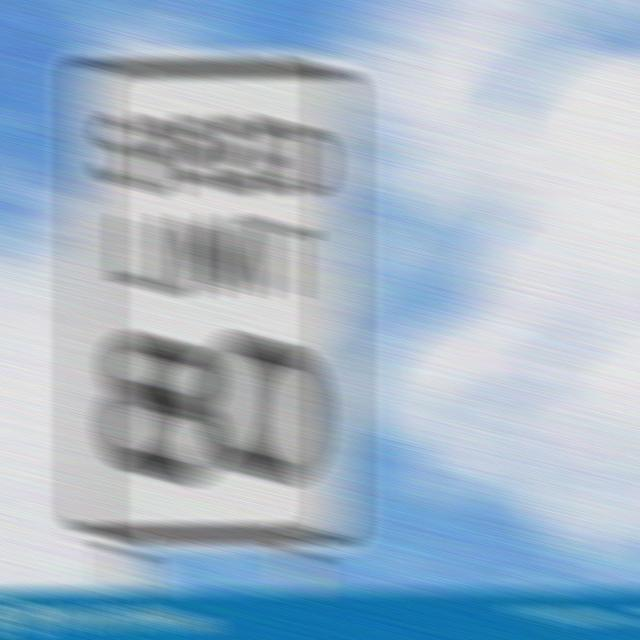speedLimit80: (72, 54, 350, 552)
